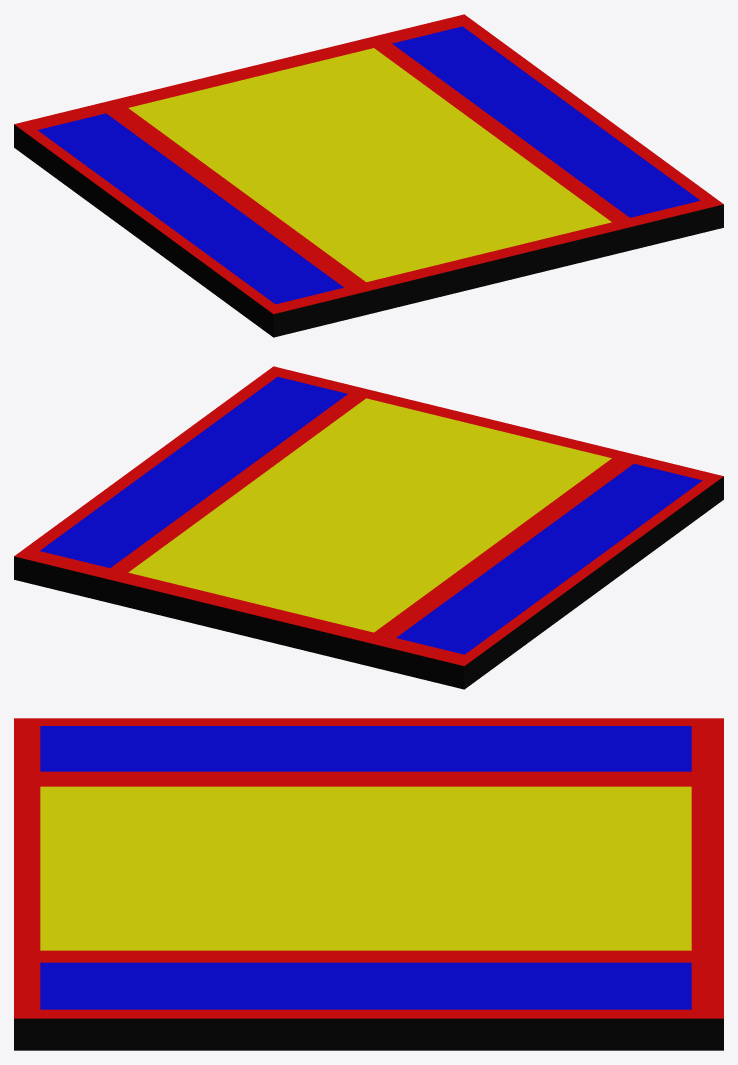
The model's file is Floor_Type_3.fbx.
3 renders of one model, top to bottom at view 1: azimuth 30°, elevation 25°; view 2: azimuth 150°, elevation 25°; view 3: azimuth 270°, elevation 25°, orthographic. The views are drawn at different scales.
Parts seen in each view (by area): view 1: Floor_Type_3; view 2: Floor_Type_3; view 3: Floor_Type_3.
Part boxes in pixels (box(x1,y1,x2,y2)): Floor_Type_3: box(14, 14, 723, 337); Floor_Type_3: box(14, 366, 723, 689); Floor_Type_3: box(14, 718, 723, 1050).
Bounding box in the file's own units: 282 × 13.96 × 281.
